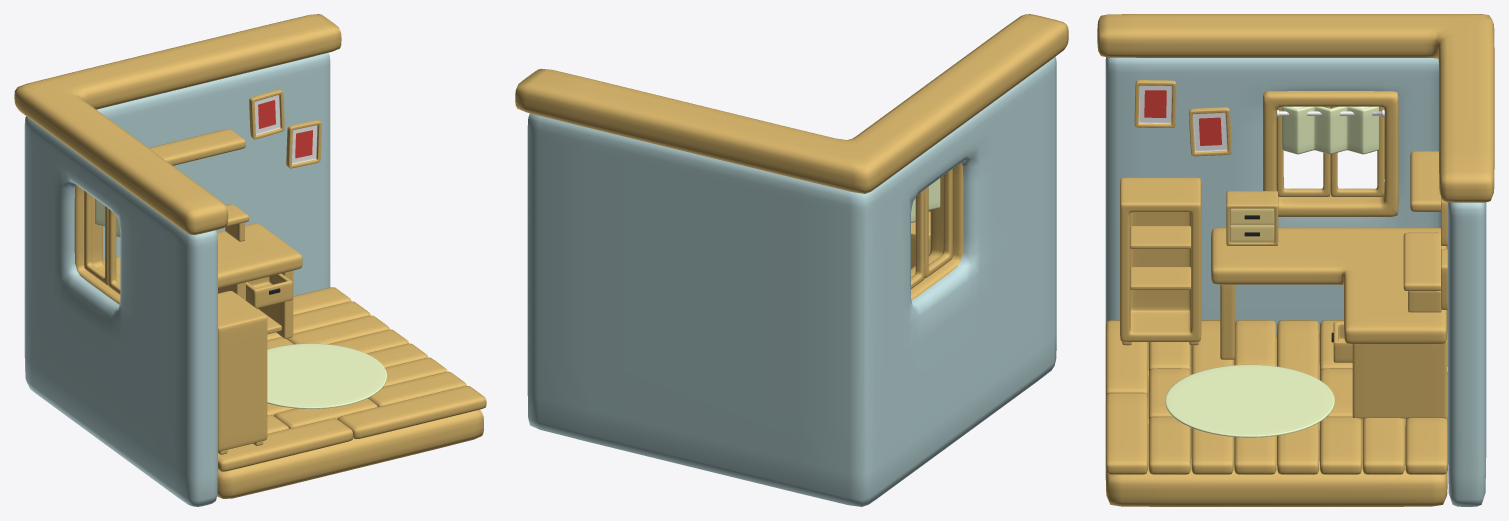
Rendered from room.glb.
3 renders of one model, left to right at view 1: azimuth 30°, elevation 25°; view 2: azimuth 150°, elevation 25°; view 3: azimuth 270°, elevation 25°, orthographic. The views are drawn at different scales.
Visible parts, largest first — view 1: Wall, Floor, WallTop, Shelf, Carpet, Table, Window, WallShelf, Image.005, Image.002, ShelfCell; view 2: Wall, WallTop, Window; view 3: Wall, Floor, Table, WallTop, Window, Shelf, Carpet, SmallShelf, ShelfItems, Image.001, Image.004, WallShelf (+1 smaller).
Boxes of the visible parts, <box> form: Wall: <box>24,52,330,506</box>; Floor: <box>217,287,486,498</box>; WallTop: <box>14,14,341,234</box>; Shelf: <box>218,291,267,454</box>; Carpet: <box>267,343,386,408</box>; Table: <box>103,204,302,338</box>; Window: <box>74,185,120,304</box>; WallShelf: <box>149,129,245,165</box>; Image.005: <box>286,120,321,168</box>; Image.002: <box>249,89,284,139</box>; ShelfCell: <box>246,273,292,308</box>; Wall: <box>527,57,1056,506</box>; WallTop: <box>515,14,1068,193</box>; Window: <box>911,163,963,300</box>; Wall: <box>1105,57,1486,506</box>; Floor: <box>1105,320,1447,506</box>; Table: <box>1211,228,1447,418</box>; WallTop: <box>1097,14,1494,202</box>; Window: <box>1263,91,1398,216</box>; Shelf: <box>1120,177,1201,345</box>; Carpet: <box>1165,364,1334,437</box>; SmallShelf: <box>1226,191,1278,245</box>; ShelfItems: <box>1130,226,1191,289</box>; Image.001: <box>1189,107,1231,156</box>; Image.004: <box>1134,80,1176,127</box>; WallShelf: <box>1410,151,1440,211</box>.
Size of the model in its own units: 4.63 by 4.34 by 4.64.
